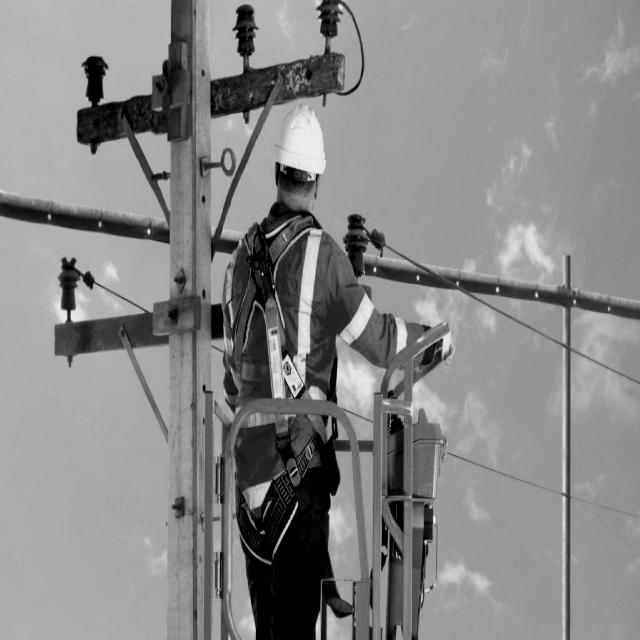head_helmet: (260, 88, 339, 173)
person: (227, 100, 364, 630)
vest: (214, 206, 344, 454)
